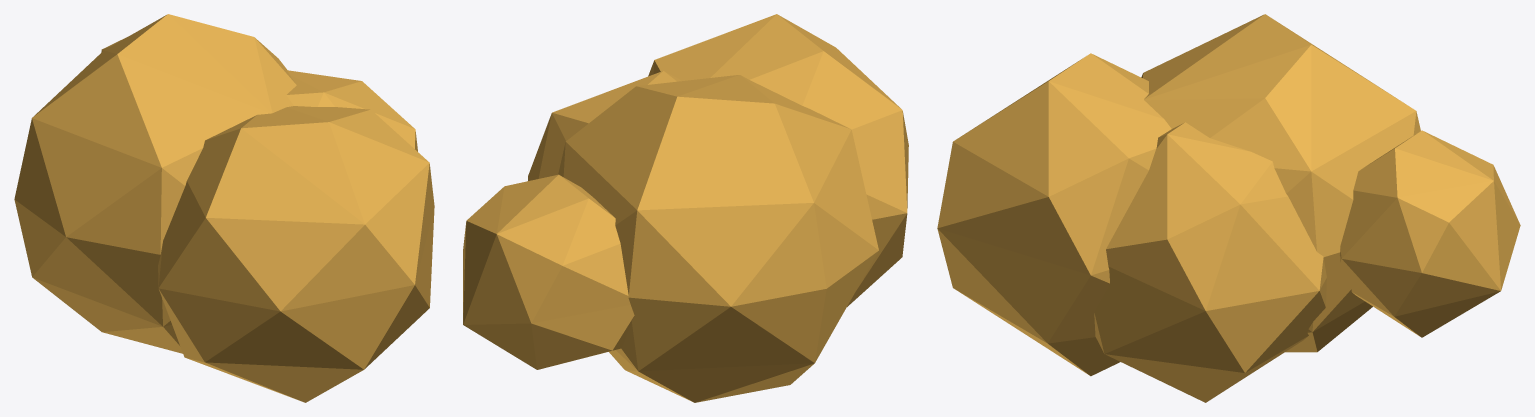
The model's file is 01_01ToxicCloud.fbx.
3 renders of one model, left to right at view 1: azimuth 30°, elevation 25°; view 2: azimuth 150°, elevation 25°; view 3: azimuth 270°, elevation 25°, orthographic.
Parts seen in each view (by area): view 1: Icosphere.022; view 2: Icosphere.022; view 3: Icosphere.022.
Boxes of the visible parts, box(x1,y1,x2,y2) form: Icosphere.022: box(14, 14, 434, 402); Icosphere.022: box(463, 14, 908, 402); Icosphere.022: box(937, 14, 1520, 402).
Size of the model in its own units: 75.17 by 61.83 by 107.
